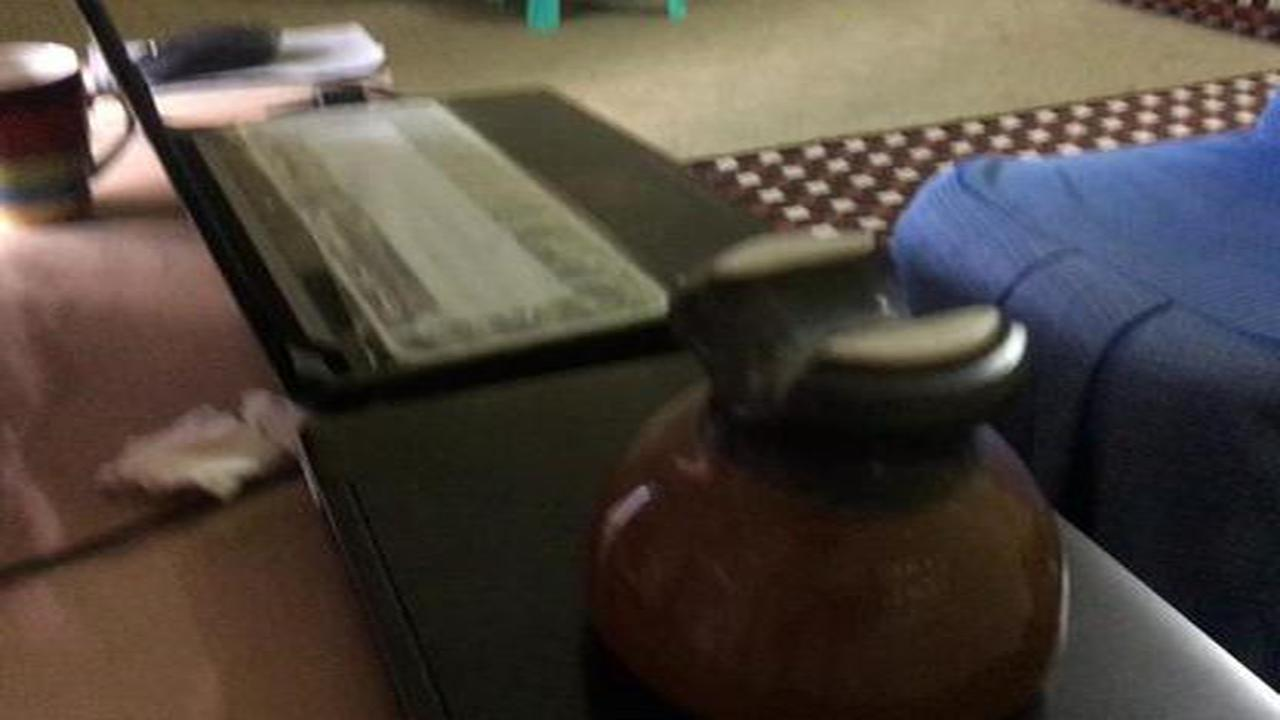insulator_pin: (579, 228, 1081, 715)
